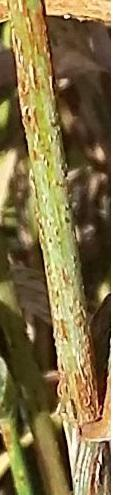Wheat: (8, 11, 92, 374)
